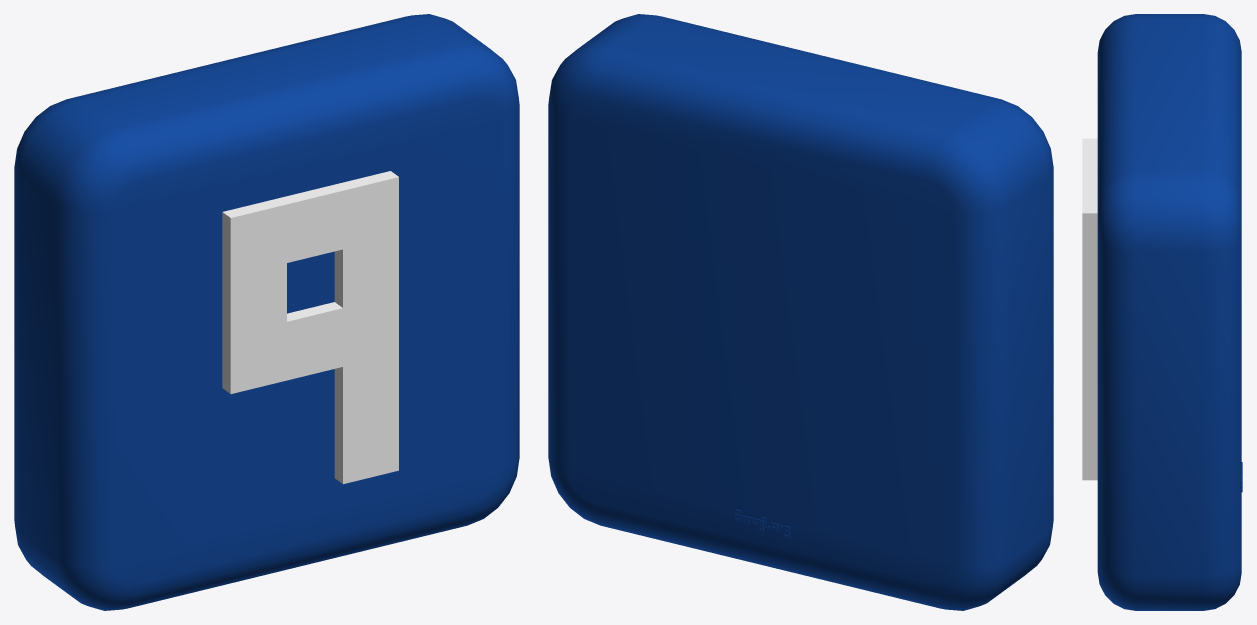
Rendered from keycap_9.fbx.
The picture shows the model from 3 angles, left to right: view 1: azimuth 30°, elevation 25°; view 2: azimuth 150°, elevation 25°; view 3: azimuth 270°, elevation 25°; orthographic projection. The views are drawn at different scales.
Parts seen in each view (by area): view 1: Cube.6587; view 2: Cube.6587; view 3: Cube.6587.
Boxes of the visible parts, <box> form: Cube.6587: <box>14,14,519,610</box>; Cube.6587: <box>548,14,1053,610</box>; Cube.6587: <box>1082,14,1242,610</box>.
Size of the model in its own units: 220 by 220 by 73.37.
Materials: 1 (1 with a texture image).
